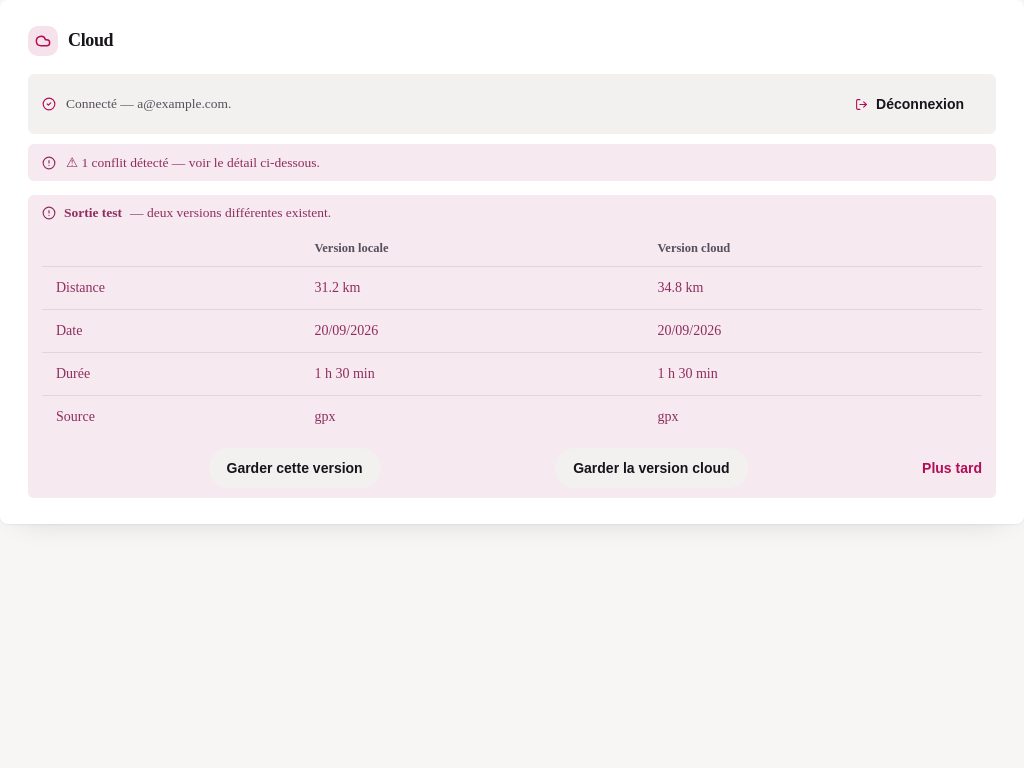
Test: CloudAccountPanel — Phase 11C : résolution de conflit › affiche les deux versions et 'Garder cette version' résout le conflit sans écraser silencieusement
Expected: the text "⚠ 1 conflit détecté — voir le détail ci-dessous." is shown, [66,154,320,171]
Expected: the text "31.2 km" is shown, [300,266,643,310]
Click the button "Garder cette version" at coordinates (295, 468), box [208,448,381,488]
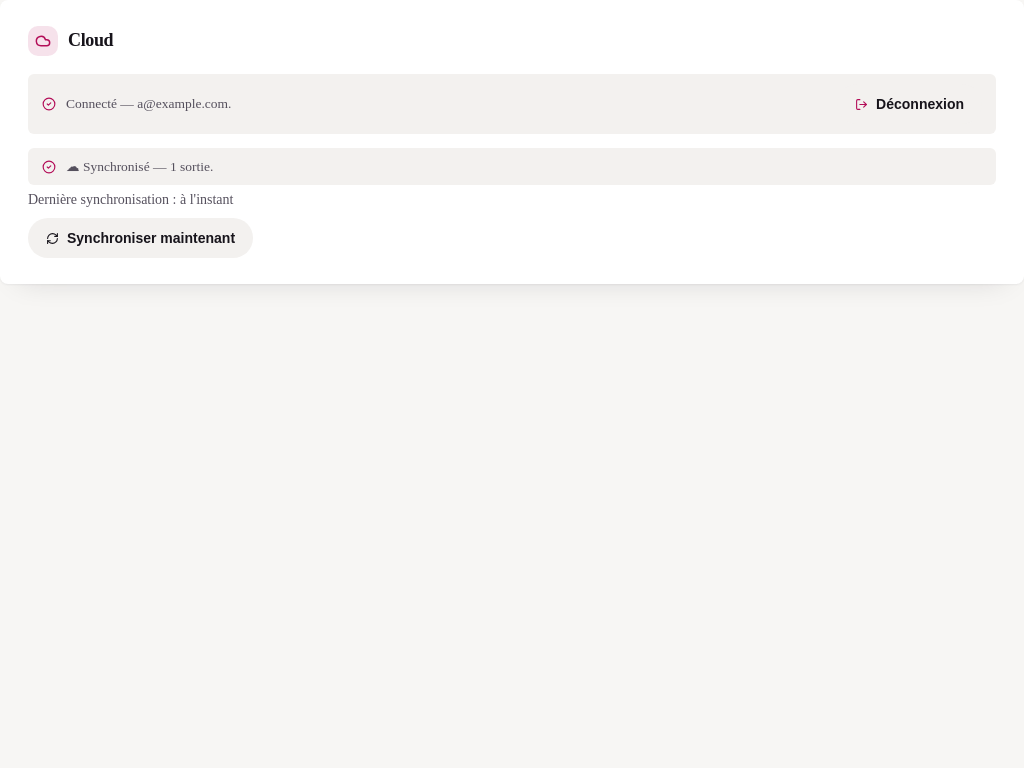
Expected: the text "☁ Synchronisé — 1 sortie." is shown, [66,158,213,175]
Expected: the text "conflit détecté" is gone
